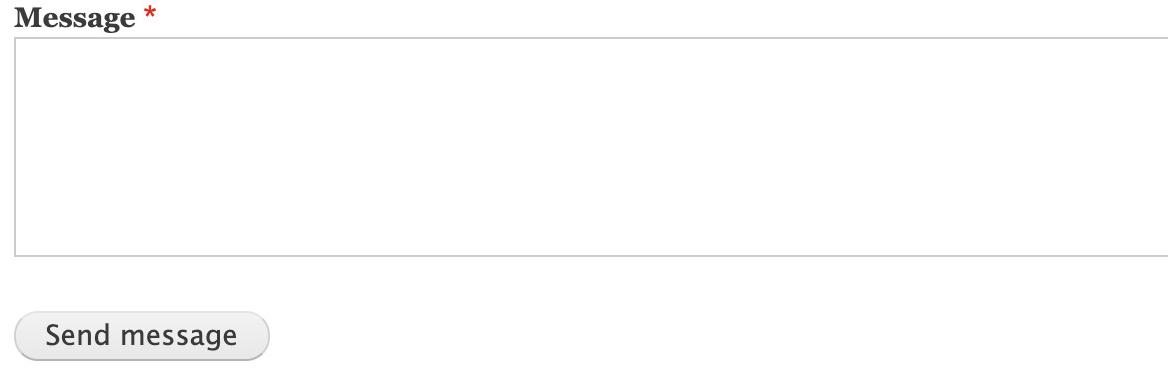button: (12, 309, 274, 364)
field: (12, 33, 1168, 260)
field_with_label: (9, 4, 1168, 263)
